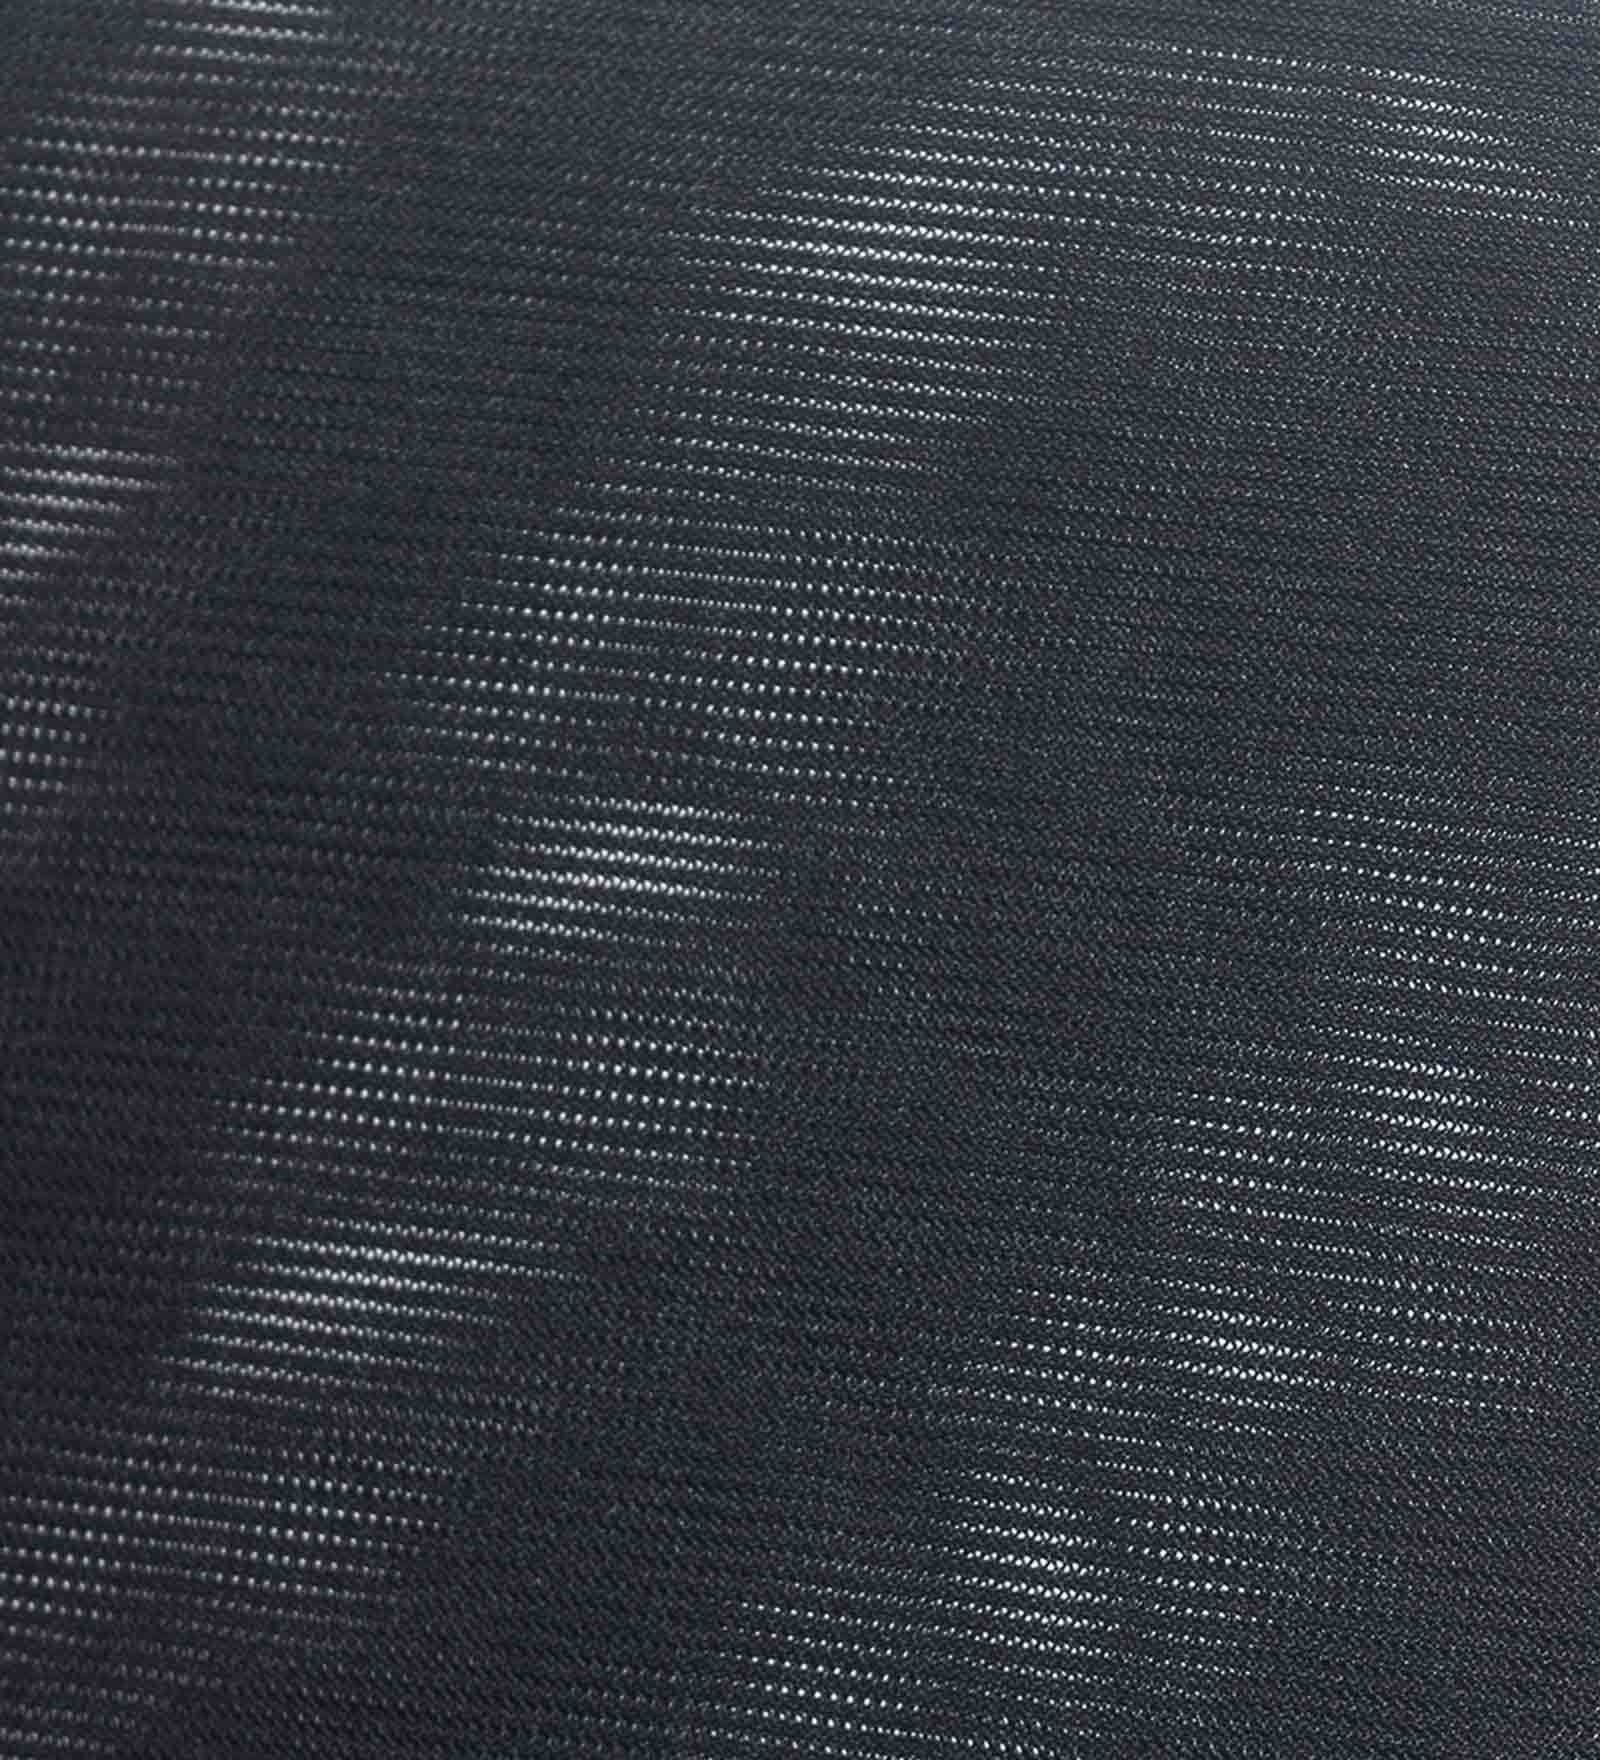Thames Low Back Mesh Office Chair in Black Colour by Nilkamal: (228, 218, 1510, 1745)
